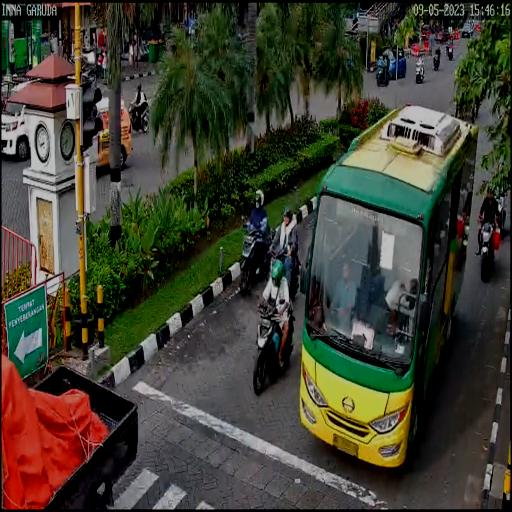mobil: (297, 97, 480, 476)
motor: (251, 293, 293, 402), (235, 213, 273, 302), (475, 204, 505, 295)
